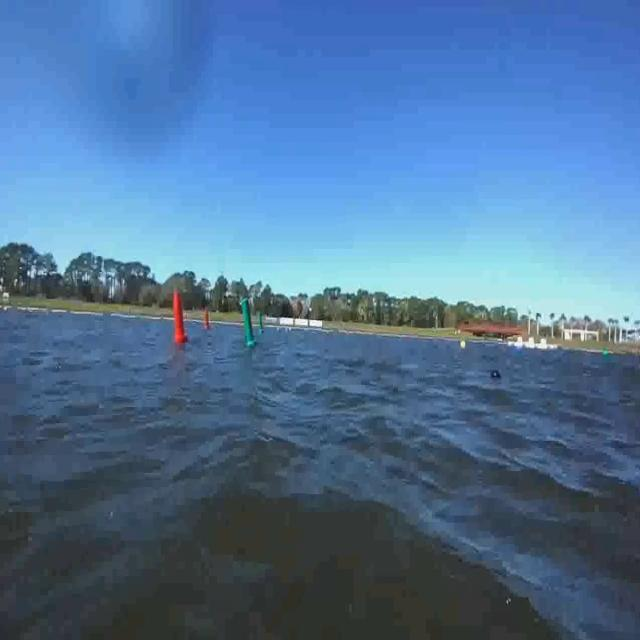black-buoy: (489, 364, 504, 384)
green-buoy: (602, 348, 609, 358)
green-column-buoy: (240, 297, 258, 349), (257, 311, 263, 332)
red-column-buoy: (170, 290, 188, 344), (203, 308, 212, 330)
yellow-buoy: (459, 338, 468, 352)
